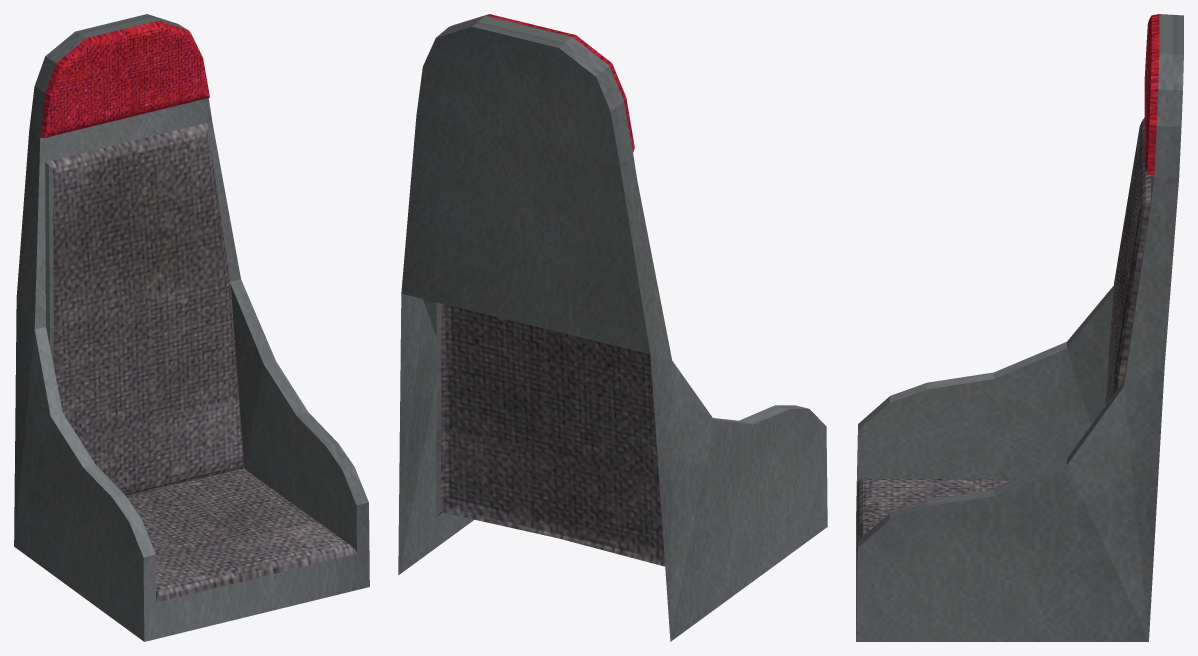
File: seat.obj
3 views of the same model, side by side, from view 1: azimuth 30°, elevation 25°; view 2: azimuth 150°, elevation 25°; view 3: azimuth 270°, elevation 25° (orthographic). The views are drawn at different scales.
Visible parts, largest first — view 1: seat; view 2: seat; view 3: seat.
Part boxes in pixels (x1,y1,x2,y2): seat: [14, 14, 369, 641]; seat: [398, 14, 827, 641]; seat: [856, 14, 1183, 641].
Bounding box in the file's own units: 0.4216 × 0.8687 × 0.4725.
1 material, 1 textured.
